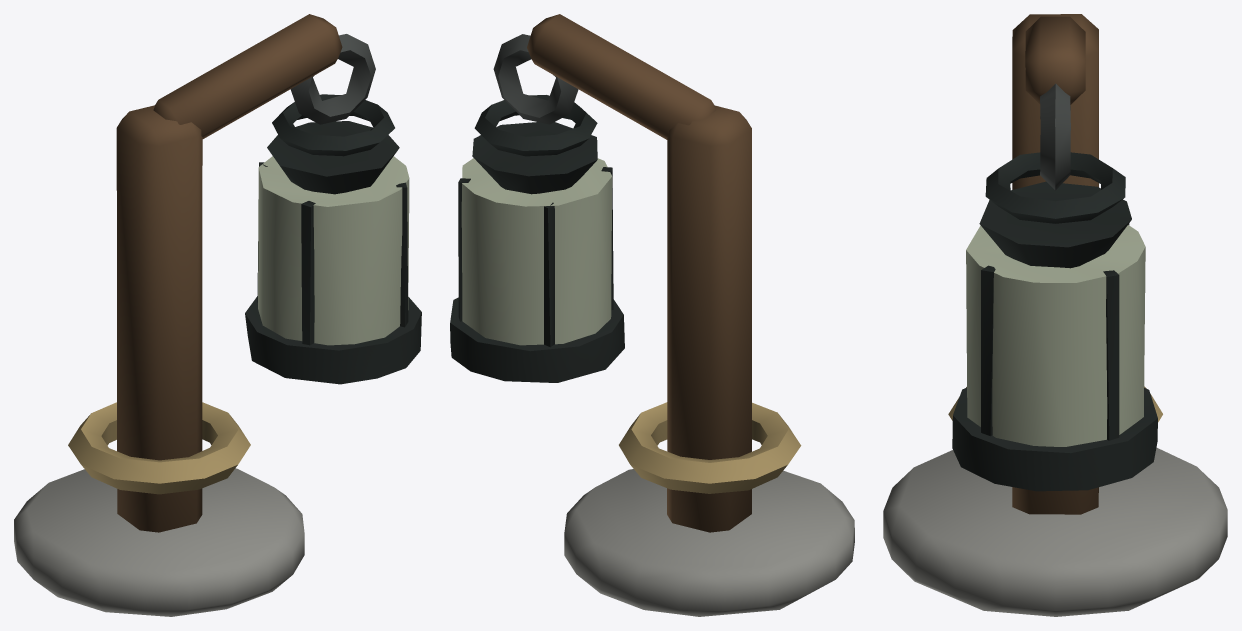
File: storm_lantern_a_lod1.glb
3 views of the same model, side by side, from view 1: azimuth 30°, elevation 25°; view 2: azimuth 150°, elevation 25°; view 3: azimuth 270°, elevation 25° (orthographic). The views are drawn at different scales.
Parts seen in each view (by area): view 1: Surface.001; view 2: Surface.001; view 3: Surface.001.
Part boxes in pixels (x1,y1,x2,y2): Surface.001: (14,14,421,616); Surface.001: (450,14,854,616); Surface.001: (883,14,1227,616).
Size of the model in its own units: 1.19 by 1.53 by 0.8015.
